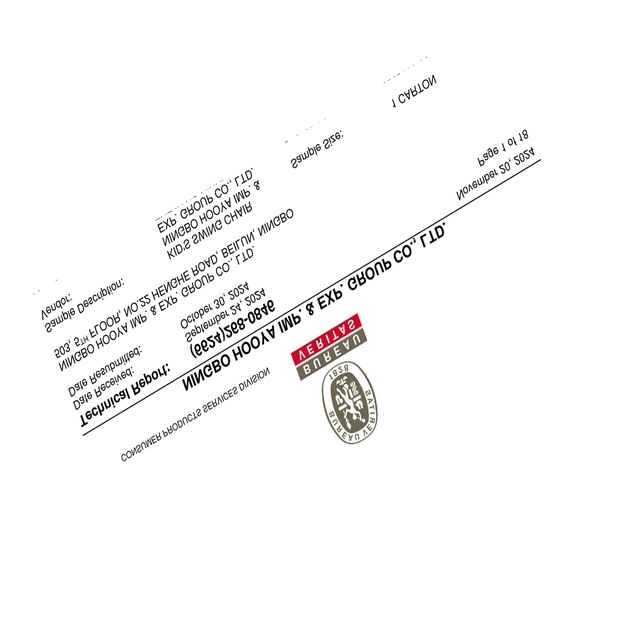bureau_veritas: (289, 312, 382, 448)
